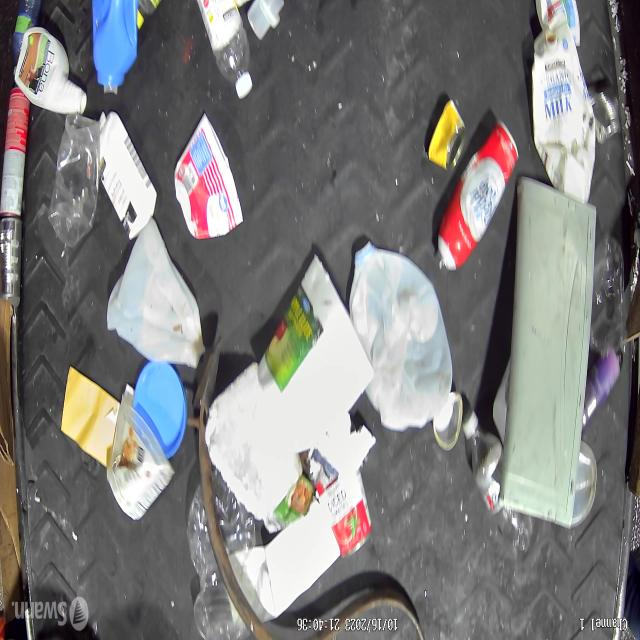can: (435, 118, 520, 275), (318, 468, 372, 560), (1, 85, 30, 218), (425, 97, 467, 173), (0, 217, 23, 311), (588, 84, 623, 144), (432, 388, 463, 454)
milk_jug: (348, 242, 454, 432), (106, 217, 206, 370)
non_white_jug: (90, 0, 138, 89)
plastic_bottle: (462, 407, 534, 555), (196, 0, 254, 105), (12, 0, 42, 79)
